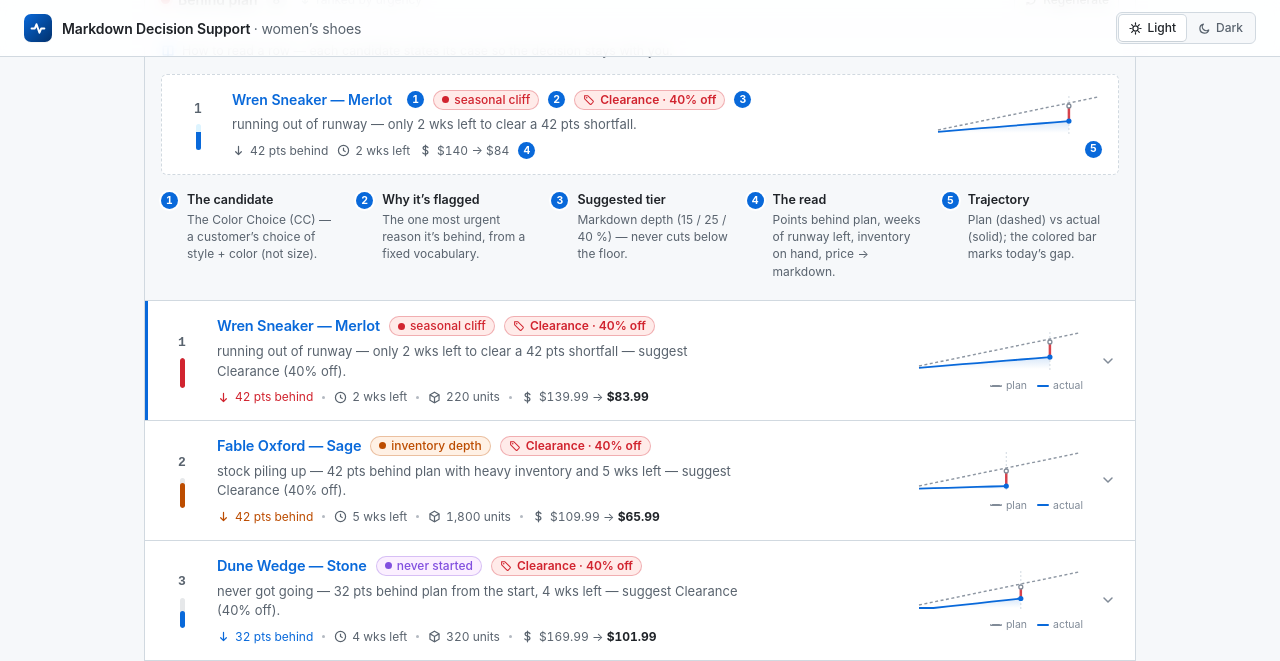
MarkdownSurface — expandable detail panel › renders the three-tier ladder with each tier’s gap-points band and marks the chosen tier
The width and height of the screenshot is (1280, 661).
(page scrolled)
Step 1. Click the button that starts with "Wren Sneaker — Merlot" → click(640, 361), box [145, 301, 1135, 420]
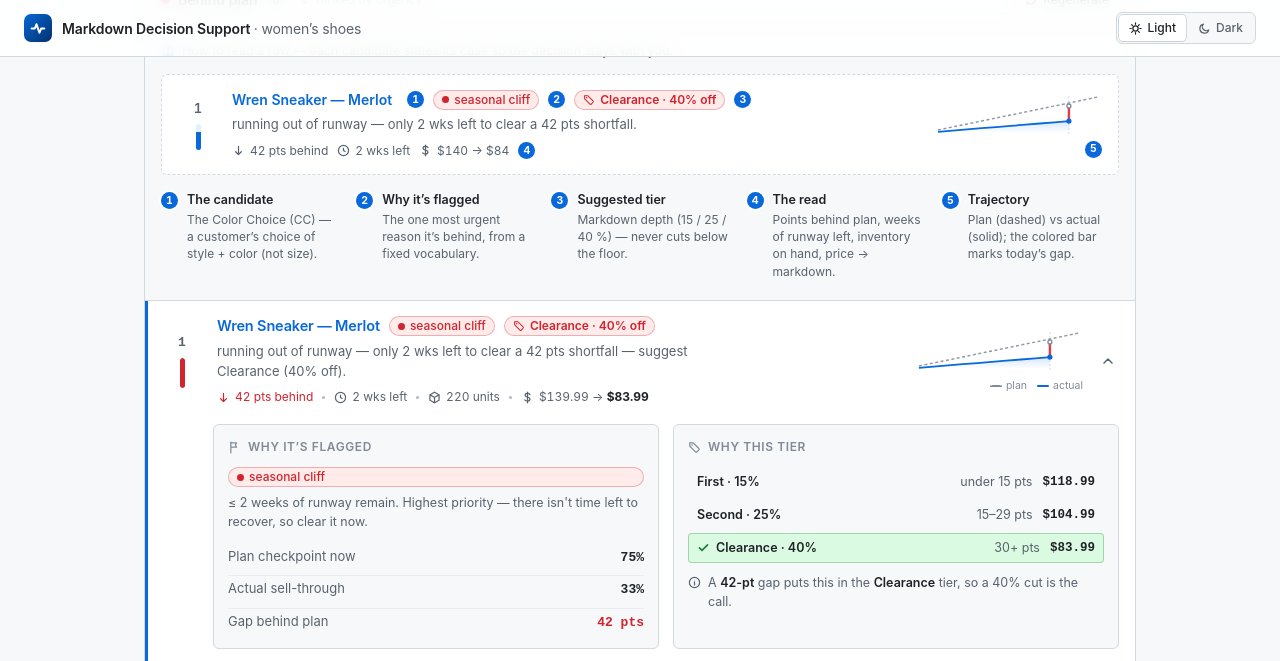
Check: the text "First · 15%" is shown, box [697, 474, 760, 489]
Check: the text "Second · 25%" is shown, box [697, 507, 781, 522]
Check: the text "under 15 pts" is shown, box [960, 473, 1032, 492]
